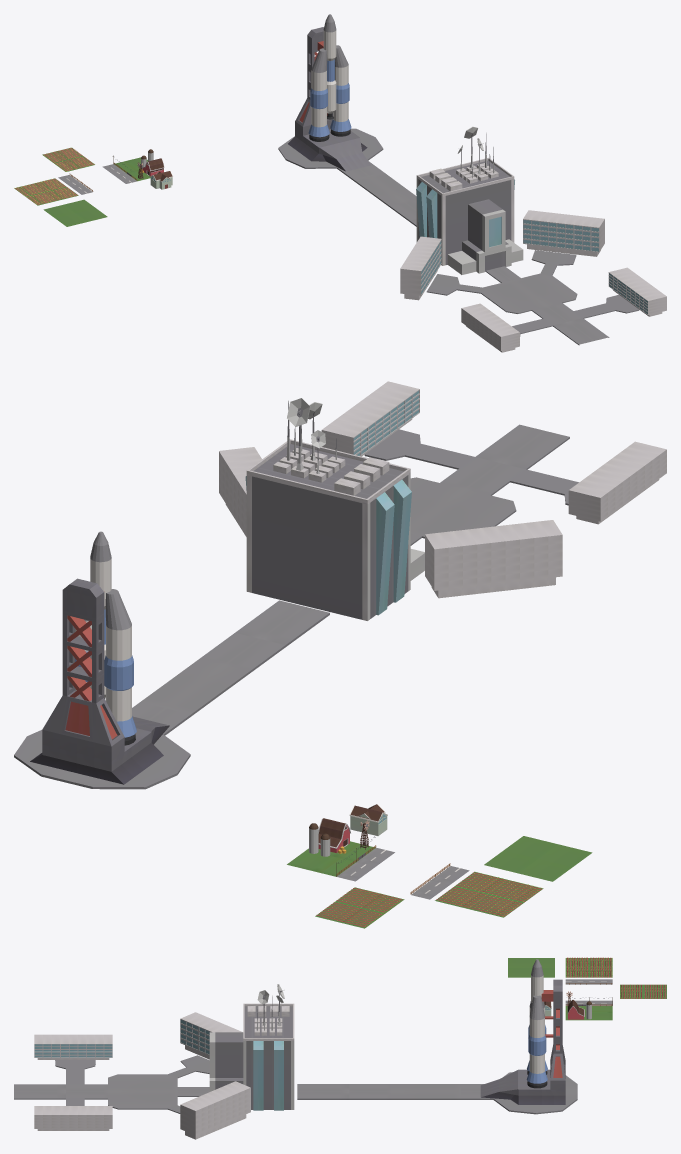
Rendered from AssetsFarm.fbx.
3 renders of one model, top to bottom at view 1: azimuth 30°, elevation 25°; view 2: azimuth 150°, elevation 25°; view 3: azimuth 270°, elevation 25°, orthographic. The views are drawn at different scales.
Visible parts, largest first — view 1: ResearchLabMain, ResearchLabSide, ResearchLadPathway, Rocket, LaunchPad, LaunchPathway, FarmingGround, GreenGround, SideFarmingGround; view 2: ResearchLabMain, ResearchLabSide, LaunchPad, LaunchPathway, ResearchLadPathway, Rocket, FarmingGround, GreenGround, SideFarmingGround, SideGreenGround, FarmHouse, SideRoad (+1 smaller); view 3: ResearchLabSide, ResearchLabMain, ResearchLadPathway, LaunchPathway, LaunchPad, Rocket, FarmingGround, GreenGround, SideFarmingGround, SideGreenGround, SideRoad.
Part boxes in pixels (x1,y1,x2,y2): ResearchLabMain: (416,126,523,274); ResearchLabSide: (400,210,666,352); ResearchLadPathway: (426,250,639,345); Rocket: (308,14,351,141); LaunchPad: (288,27,370,171); LaunchPathway: (278,128,416,226); FarmingGround: (14,178,78,205); GreenGround: (43,199,107,226); SideFarmingGround: (42,147,94,171); ResearchLabMain: (245,398,424,620); ResearchLabSide: (219,381,666,598); LaunchPad: (30,578,169,784); LaunchPathway: (14,600,329,789); ResearchLadPathway: (364,424,578,545); Rocket: (75,531,136,745); FarmingGround: (435,871,543,917); GreenGround: (484,836,592,881); SideFarmingGround: (315,887,404,928); SideGreenGround: (287,841,375,876); FarmHouse: (349,804,387,835); SideRoad: (410,863,469,899); ResearchLabSide: (34,1012,250,1139); ResearchLabMain: (209,984,294,1110); ResearchLadPathway: (14,1055,209,1113); LaunchPathway: (297,1072,577,1114); LaunchPad: (480,979,565,1104); Rocket: (526,959,547,1088); FarmingGround: (565,957,612,977); GreenGround: (508,958,554,977); SideFarmingGround: (620,984,666,998); SideGreenGround: (565,1006,612,1020); SideRoad: (565,979,612,984).
Size of the model in its own units: 154 by 52.04 by 232.
